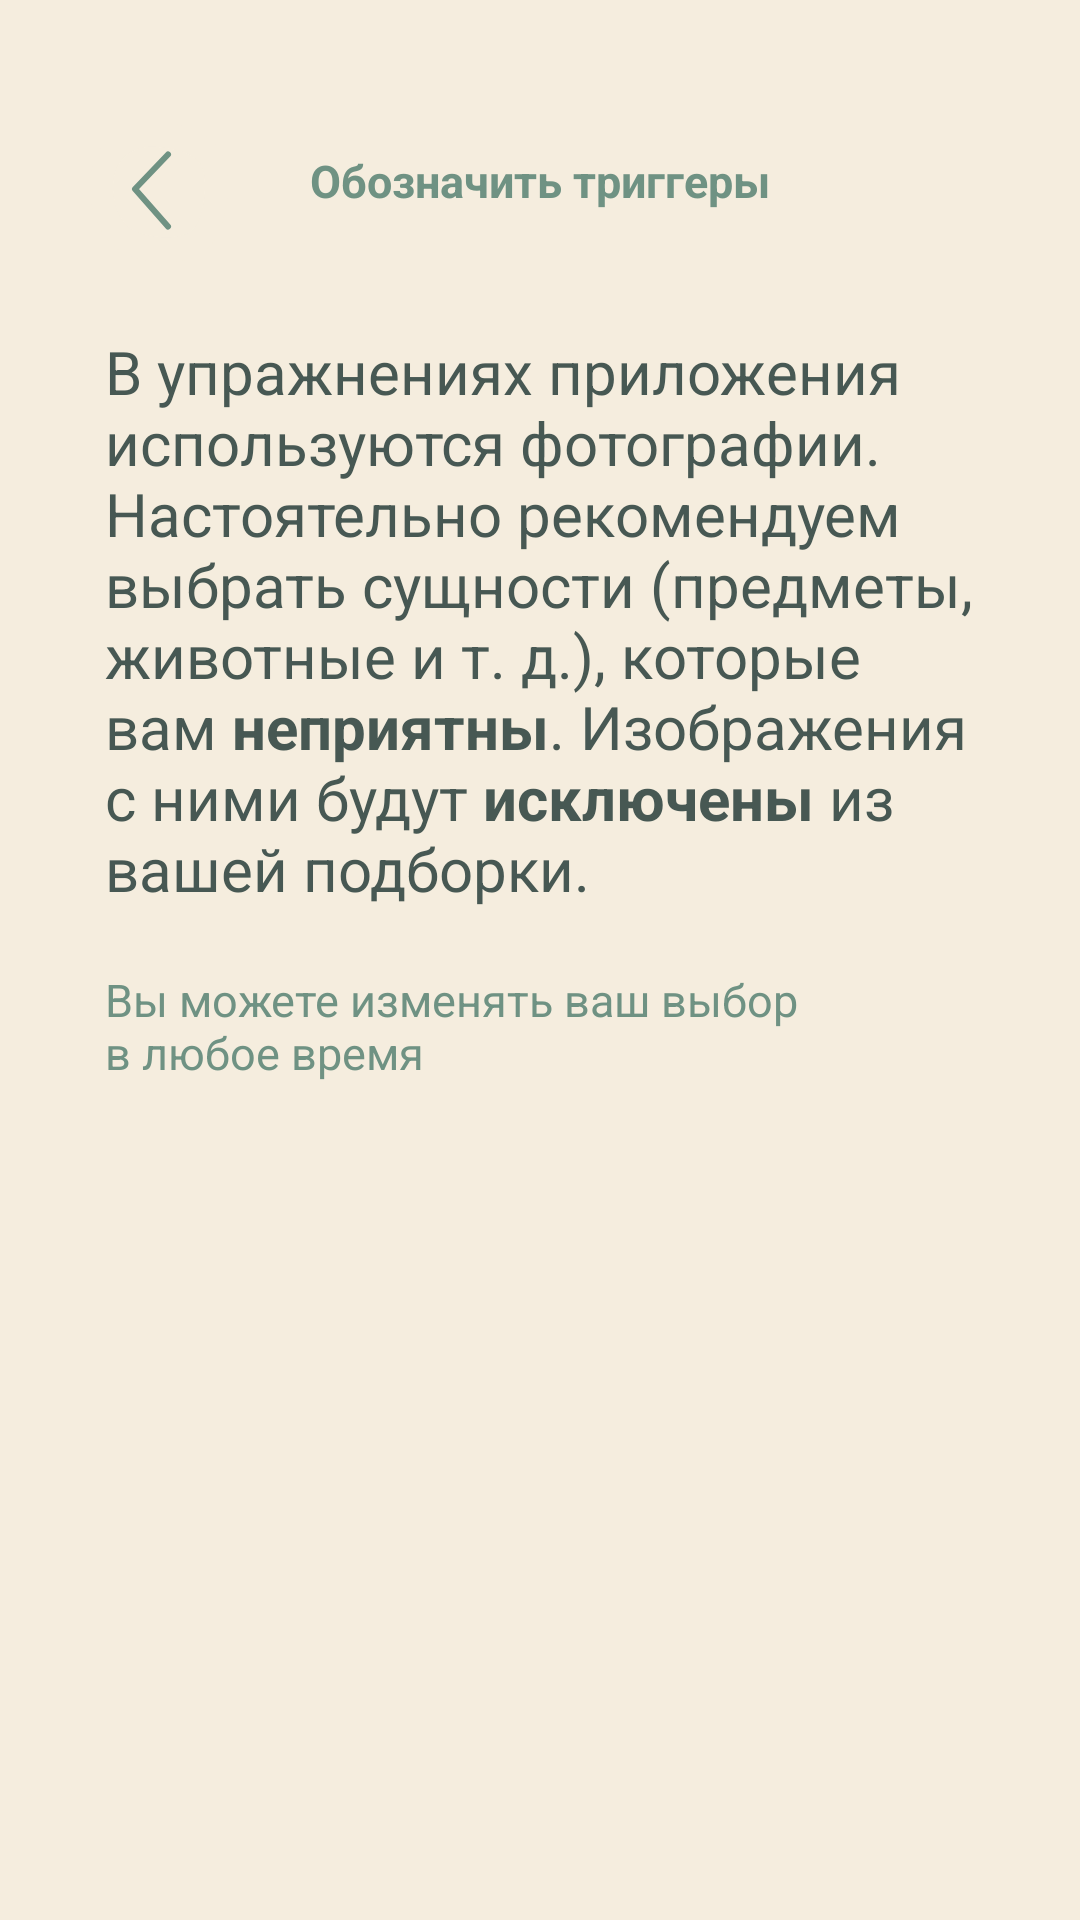

Point at icon controls on the screen. Image size 1080px×1920px, points as (x=x, y=y).
Back Button: (x=151, y=190)
